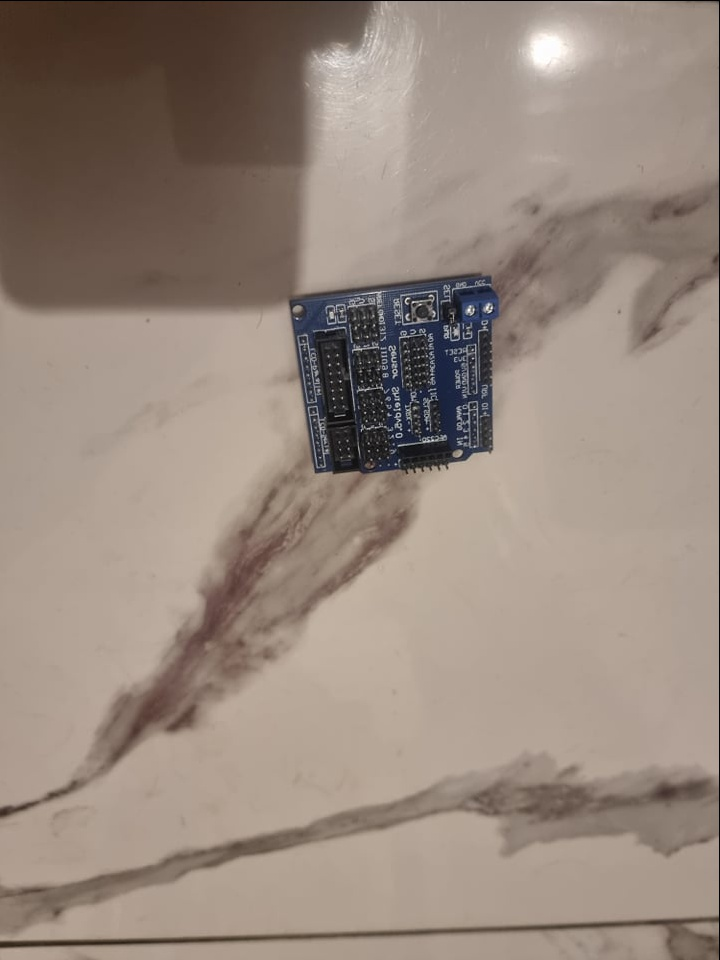5V EXPANSION: (290, 266, 499, 472)
